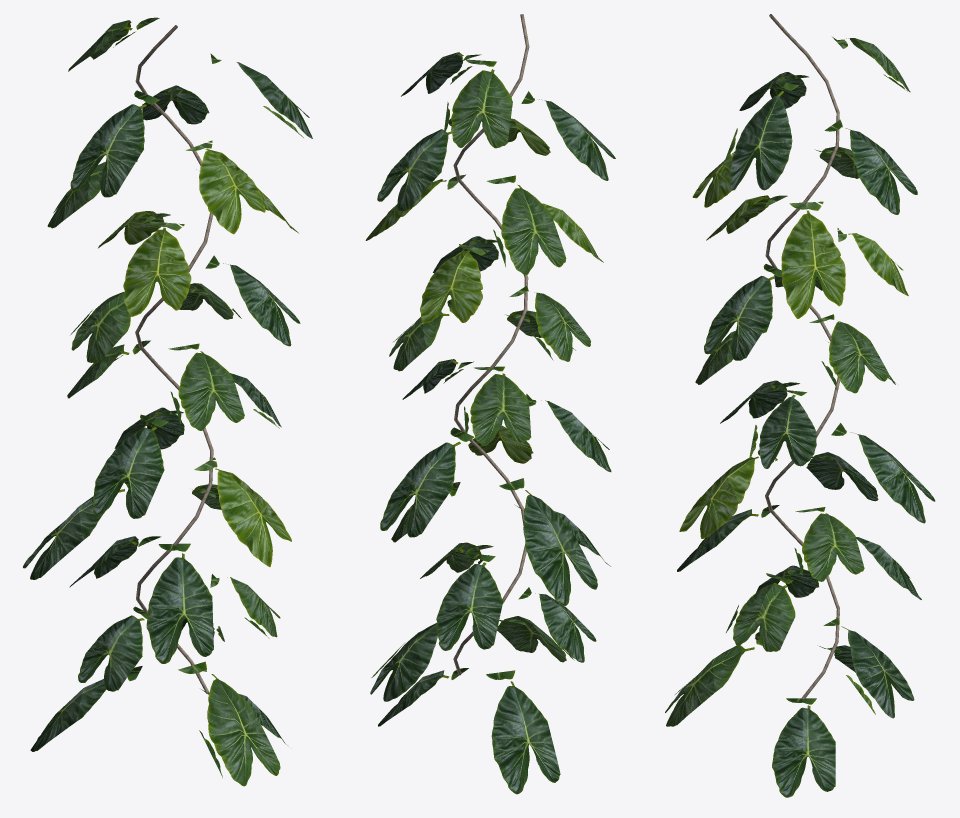
Rendered from climber_01.glb.
3 views of the same model, side by side, from view 1: azimuth 30°, elevation 25°; view 2: azimuth 150°, elevation 25°; view 3: azimuth 270°, elevation 25° (orthographic). The views are drawn at different scales.
Visible parts, largest first — view 1: climber_01; view 2: climber_01; view 3: climber_01.
Boxes of the visible parts, x1=… form: climber_01: x1=23, y1=17, x2=312, y2=786; climber_01: x1=365, y1=14, x2=615, y2=794; climber_01: x1=665, y1=14, x2=935, y2=797.
Size of the model in its own units: 2.01 by 5.52 by 2.
Materials: 2 (2 with a texture image).
